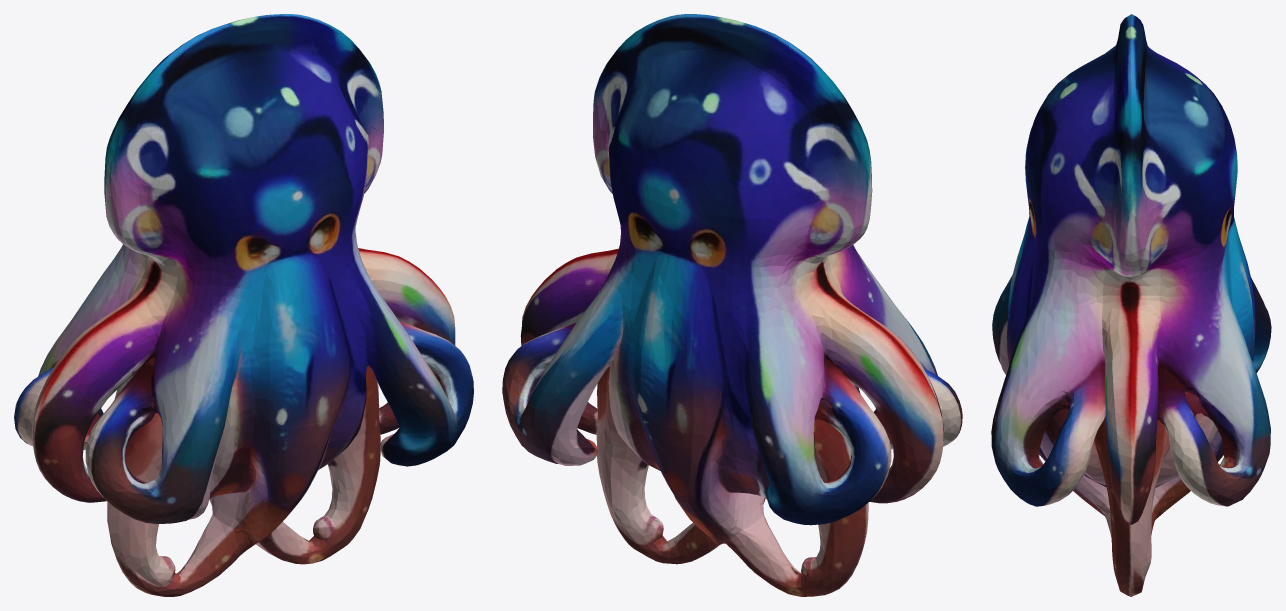
Rendered from pet_pk_squirtle.glb.
3 views of the same model, side by side, from view 1: azimuth 30°, elevation 25°; view 2: azimuth 150°, elevation 25°; view 3: azimuth 270°, elevation 25° (orthographic). The views are drawn at different scales.
Visible parts, largest first — view 1: geometry_0; view 2: geometry_0; view 3: geometry_0.
Boxes of the visible parts, left/top/right/bottom form: geometry_0: left=14, top=14, right=473, bottom=596; geometry_0: left=502, top=14, right=962, bottom=596; geometry_0: left=991, top=14, right=1271, bottom=596.
Bounding box in the file's own units: 0.631 × 0.8 × 0.3841.
Materials: 1 (1 with a texture image).
